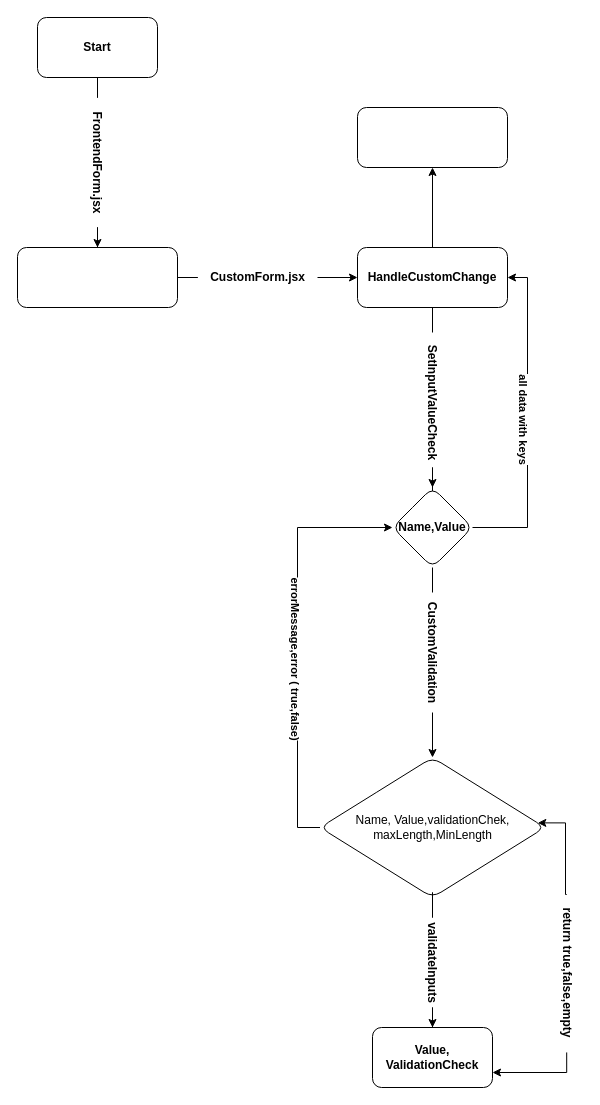
Some shapes in this 600 by 1105 pixel diagram are drawn without their labels. Each missing label, with the centre of its shape:
"CustomForm(name, type,placeholder, validationcheck, maxlength,minlength)" goes at point (97, 277).
"End" goes at point (432, 137).
